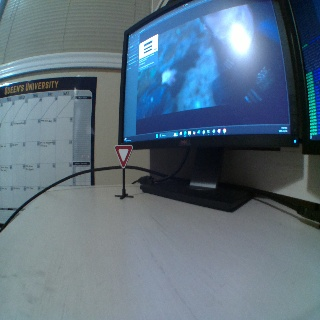sign_yield: (113, 144, 133, 166)
